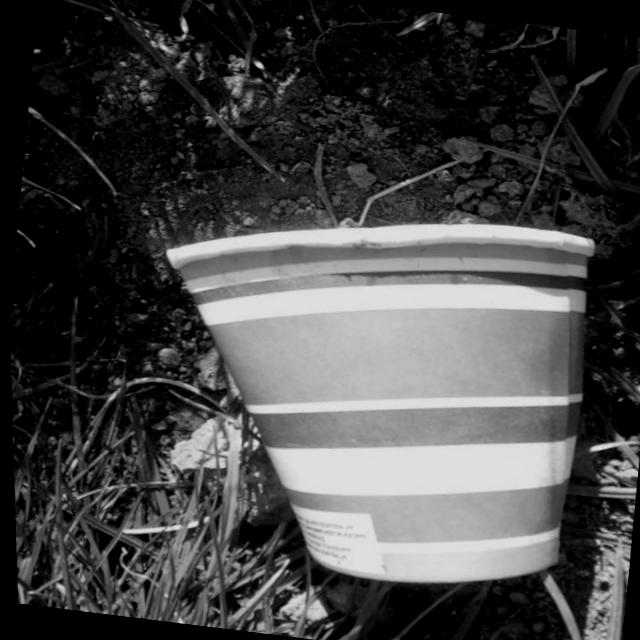Cup: (121, 177, 612, 606)
